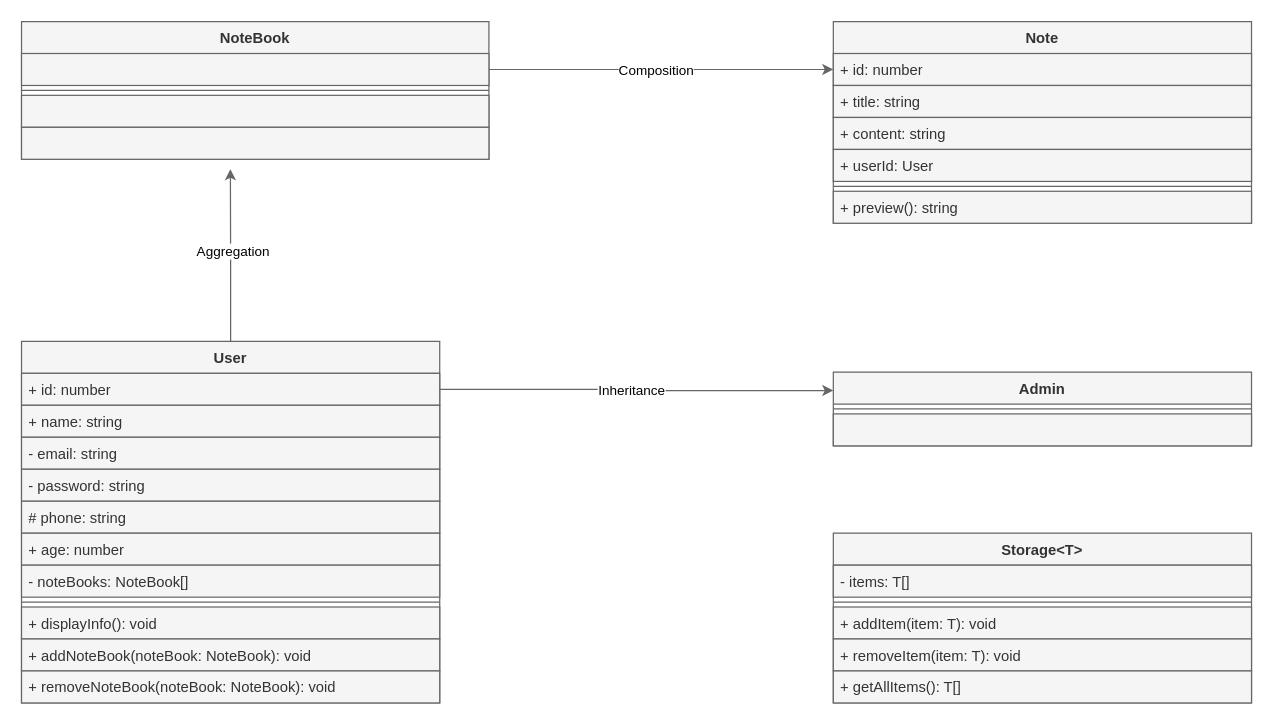
The diagram is 1273 pixels wide and 728 high, and some of its shapes have lost their labels. The centre of each missing label's shape, as x and y in pixels:
+ addNote(id: number, title: string, content: string, user: User): void: (254,110)
+ managedNotes(): void: (1042,429)
+ notes: Note[]: (254,68)
+ removeNote(noteId: number): void: (254,142)
